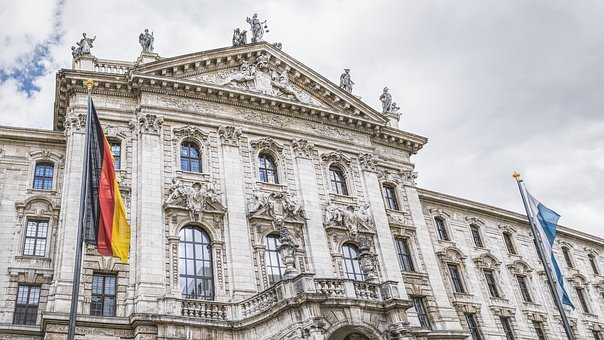Flag: (81, 89, 135, 265), (516, 178, 578, 312)
